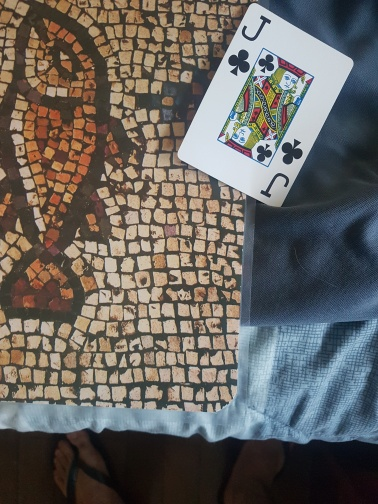jack: (176, 3, 355, 209)
